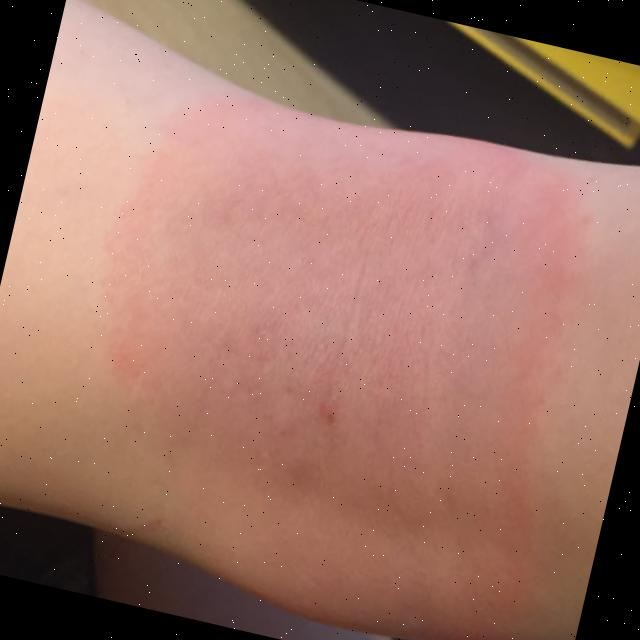kene: (78, 69, 619, 575)
